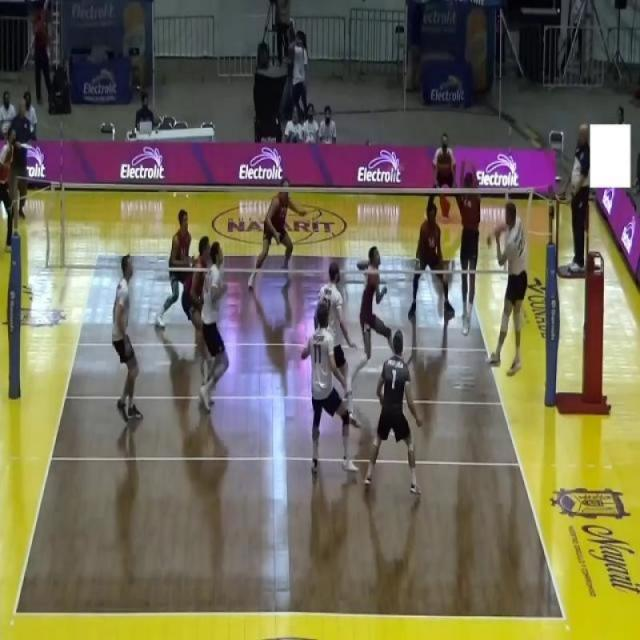volleyball: (387, 163, 405, 174)
